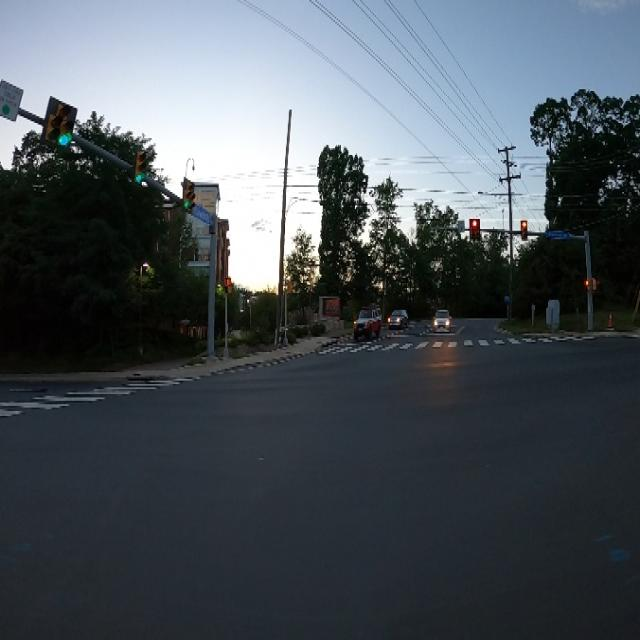Cars: (431, 310, 452, 332), (388, 310, 406, 333)
Jeep: (353, 308, 382, 339)
